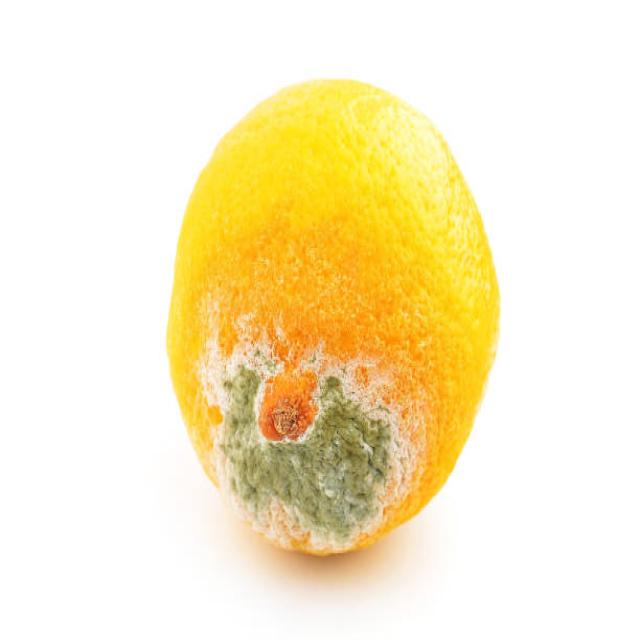Rotten: (168, 77, 500, 555)
